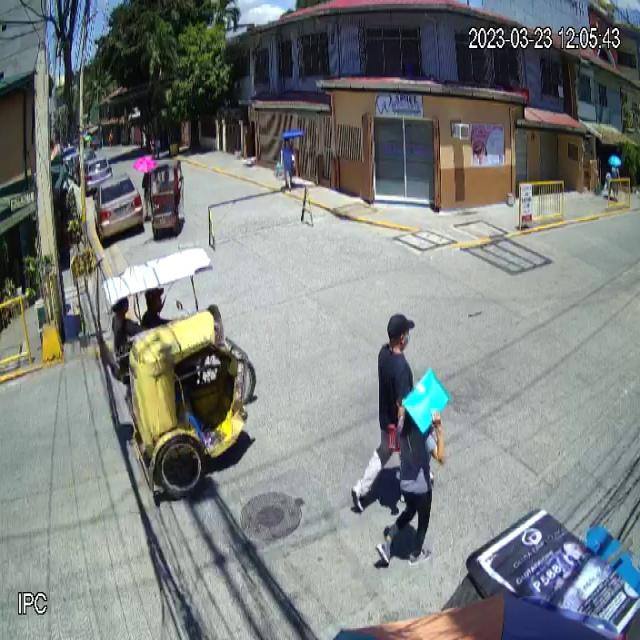Tricycle: (98, 246, 258, 503)
